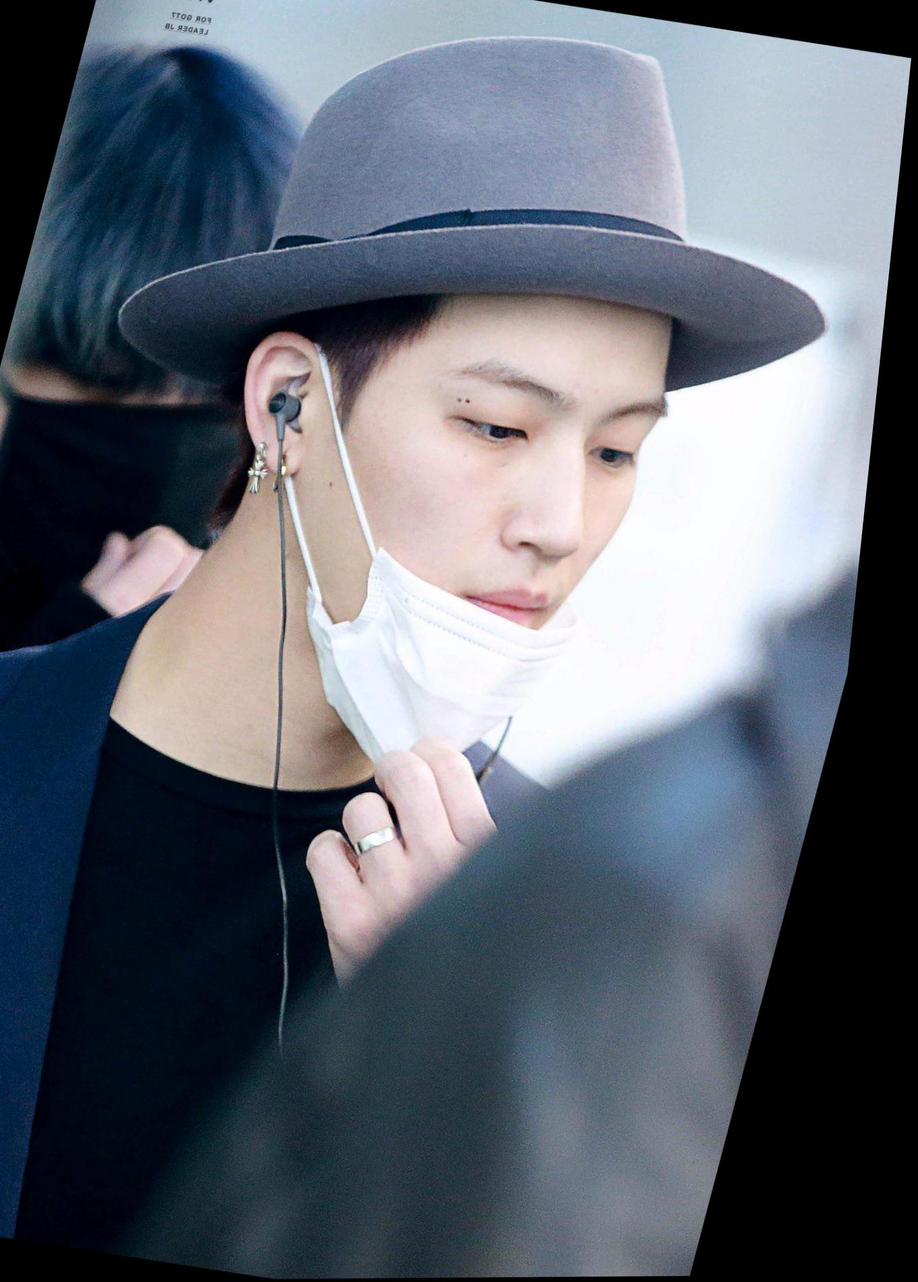WRONG: (285, 306, 695, 747)
